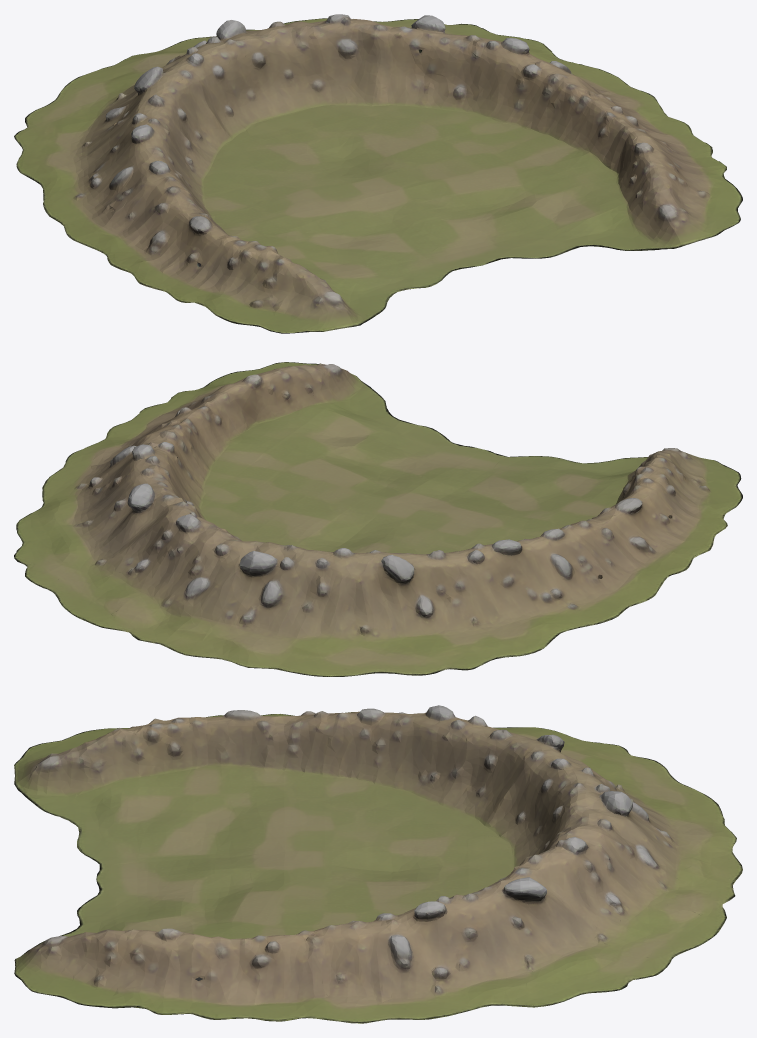
The picture shows the model from 3 angles, top to bottom: view 1: azimuth 30°, elevation 25°; view 2: azimuth 150°, elevation 25°; view 3: azimuth 270°, elevation 25°; orthographic projection. The views are drawn at different scales.
Visible parts, largest first — view 1: world; view 2: world; view 3: world.
Boxes of the visible parts, x1,y1,x2,y2 form: world: (14,14,742,333); world: (14,362,742,676); world: (14,705,742,1023).
Bounding box in the file's own units: 30 × 3.71 × 29.69.
1 material, 1 textured.
